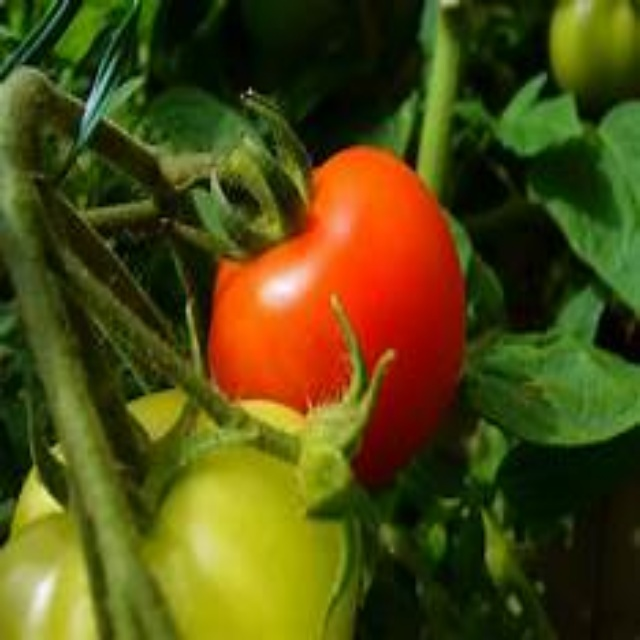tomato: (199, 151, 461, 480), (18, 402, 365, 635), (538, 5, 639, 117)
